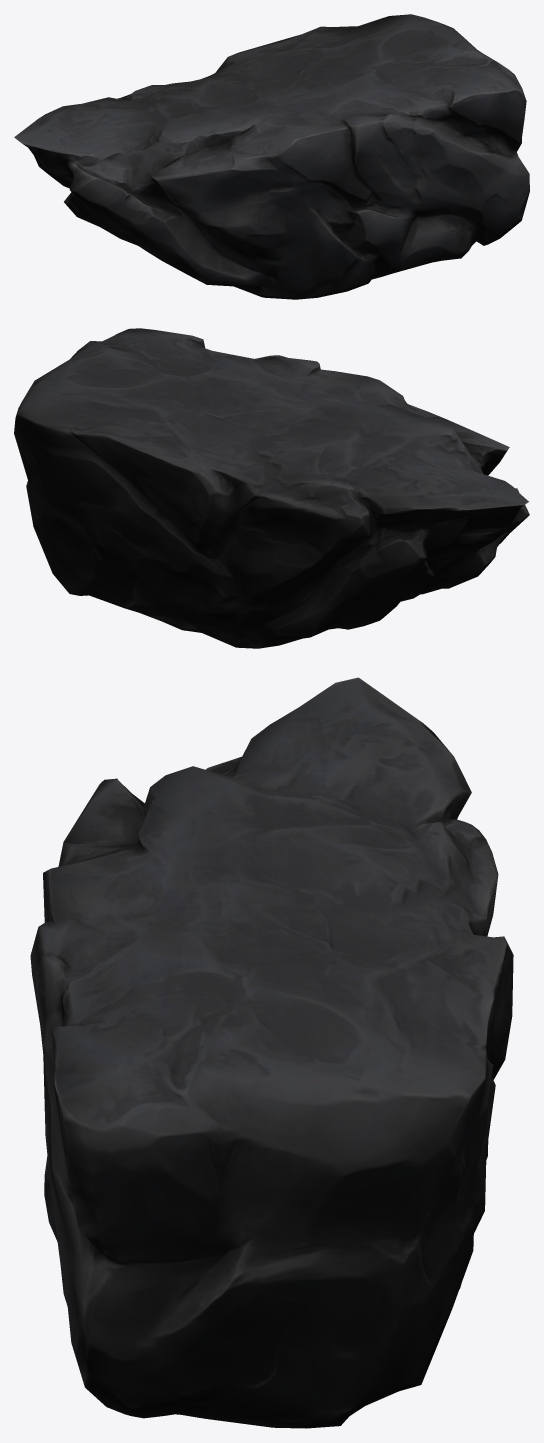
File: unbalanced_Rock.fbx
3 views of the same model, one above another, from view 1: azimuth 30°, elevation 25°; view 2: azimuth 150°, elevation 25°; view 3: azimuth 270°, elevation 25° (orthographic). The views are drawn at different scales.
Parts seen in each view (by area): view 1: Stylized Rough Landscape Rock; view 2: Stylized Rough Landscape Rock; view 3: Stylized Rough Landscape Rock.
Boxes of the visible parts, x1,y1,x2,y2 form: Stylized Rough Landscape Rock: (14, 14, 529, 299); Stylized Rough Landscape Rock: (14, 328, 529, 648); Stylized Rough Landscape Rock: (30, 677, 513, 1428).
Size of the model in its own units: 1113 by 453 by 512.
1 material, 1 textured.
